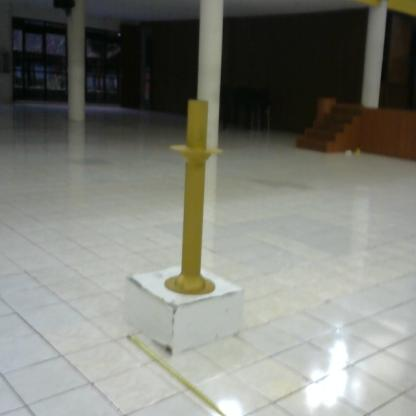pole: (164, 101, 226, 301)
